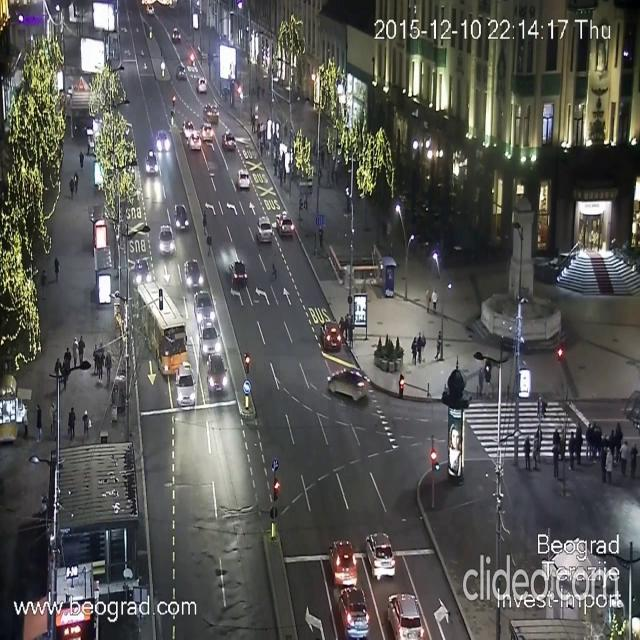bus: (135, 278, 183, 376)
car: (387, 593, 425, 639), (338, 586, 370, 639), (365, 532, 395, 580), (328, 538, 357, 586), (330, 363, 368, 398), (208, 354, 227, 396), (195, 297, 219, 328), (320, 321, 342, 352), (177, 364, 194, 404), (184, 261, 207, 287), (200, 328, 220, 357), (228, 260, 248, 286), (134, 260, 152, 286), (173, 205, 189, 232), (258, 214, 272, 244), (278, 210, 294, 236), (158, 228, 174, 252), (155, 124, 167, 150), (189, 132, 203, 154), (180, 121, 196, 139), (145, 150, 157, 173), (237, 168, 250, 189), (220, 132, 234, 150), (204, 104, 220, 118), (178, 65, 187, 83), (170, 28, 181, 42), (198, 78, 207, 92), (202, 125, 210, 138)
